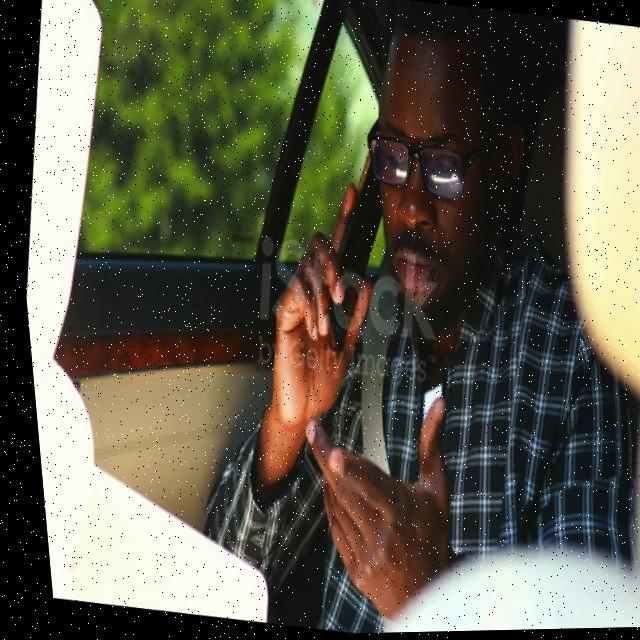PhoneCall: (302, 115, 400, 358)
